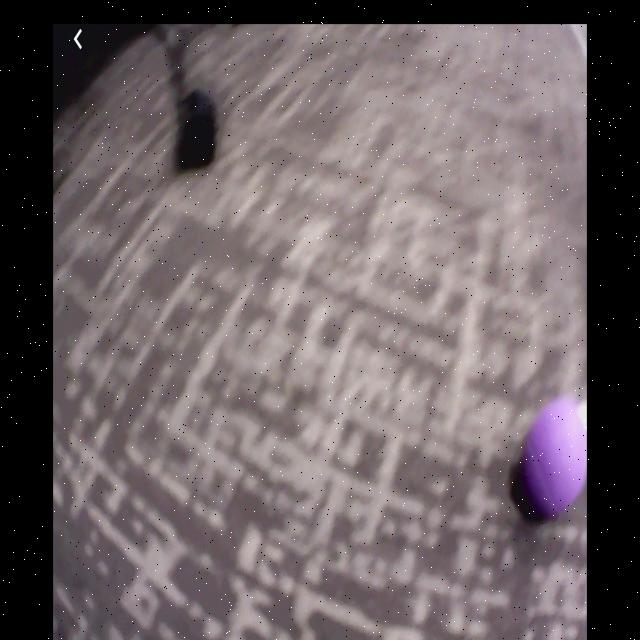ball: (509, 393, 588, 526)
